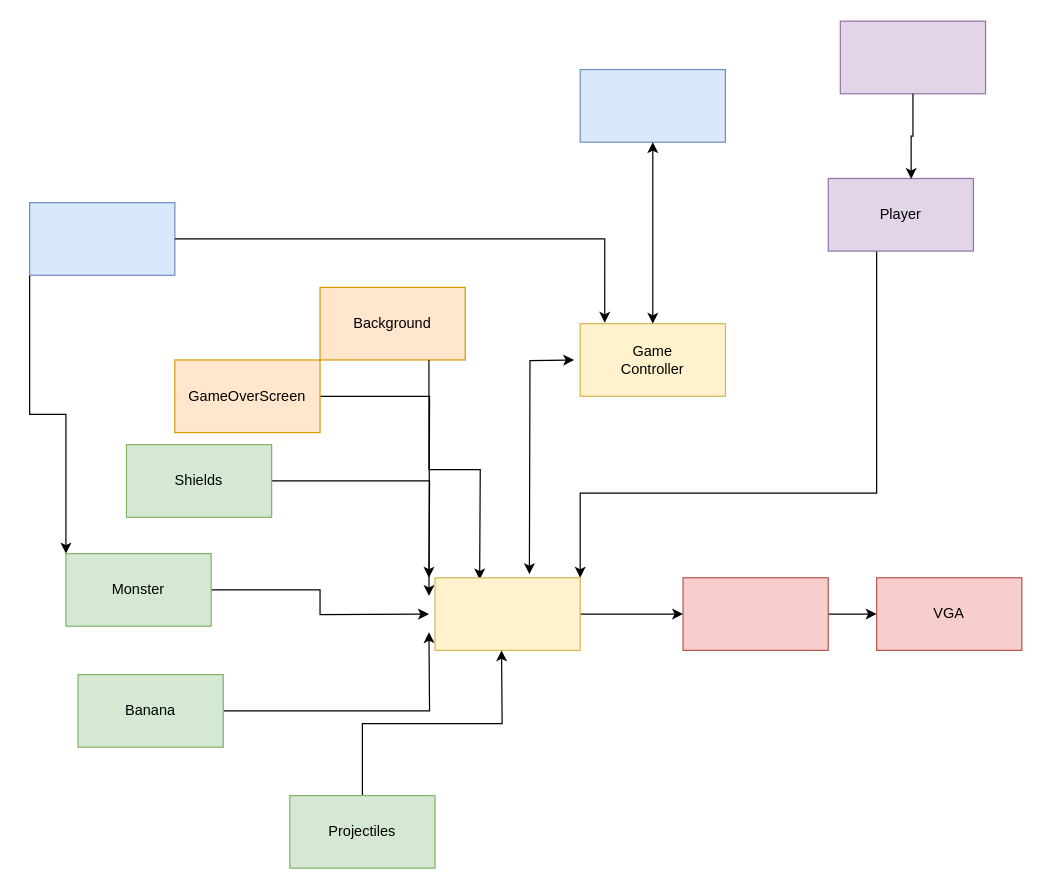
This 1043x889 diagram has some shape labels left out. The shapes that lost their labels are listed below. From the top down, each one's centre as x and y in pixels, then its label:
At point (912, 57): "KBD + Keys".
At point (652, 105): "Collisions".
At point (101, 238): "Hit".
At point (507, 613): "Draw Request".
At point (755, 613): "MUX".
